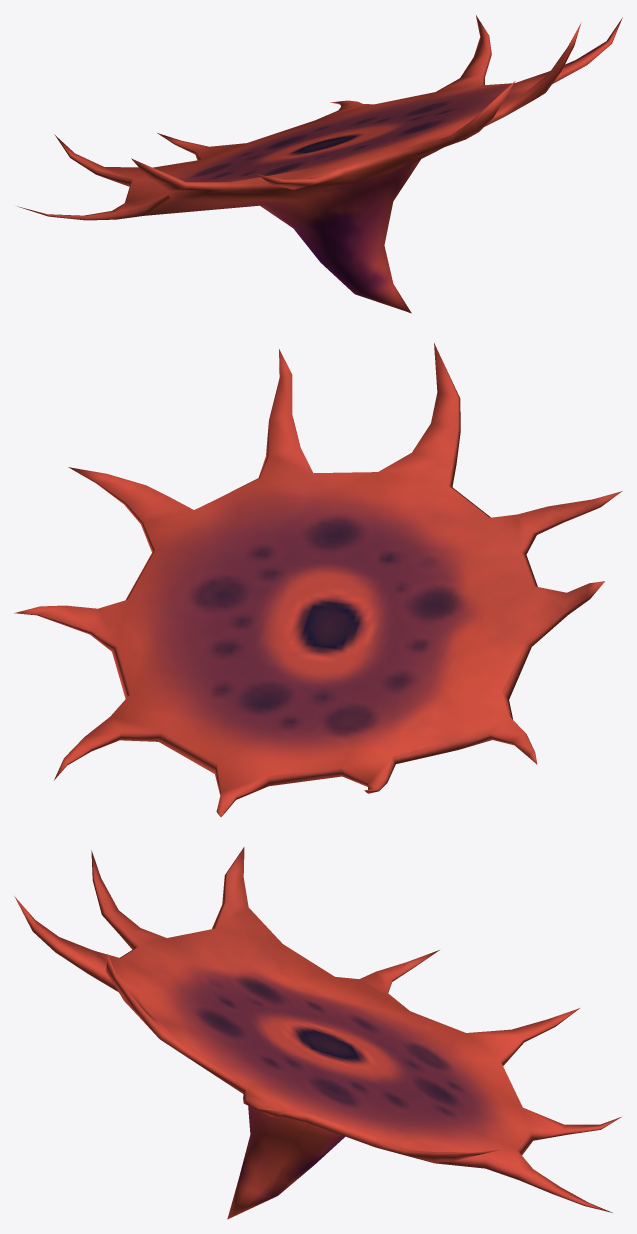
The model's file is Cartoon Seaweed_13-1-39.fbx.
The picture shows the model from 3 angles, top to bottom: view 1: azimuth 30°, elevation 25°; view 2: azimuth 150°, elevation 25°; view 3: azimuth 270°, elevation 25°; orthographic projection. The views are drawn at different scales.
Parts seen in each view (by area): view 1: Cartoon Seaweed_13.1.39; view 2: Cartoon Seaweed_13.1.39; view 3: Cartoon Seaweed_13.1.39.
Boxes of the visible parts, bbox=[...] form: Cartoon Seaweed_13.1.39: bbox=[17, 15, 622, 313]; Cartoon Seaweed_13.1.39: bbox=[14, 343, 622, 817]; Cartoon Seaweed_13.1.39: bbox=[14, 847, 621, 1219].
Bounding box in the file's own units: 15.54 × 8.45 × 14.3.
Materials: 1 (1 with a texture image).
